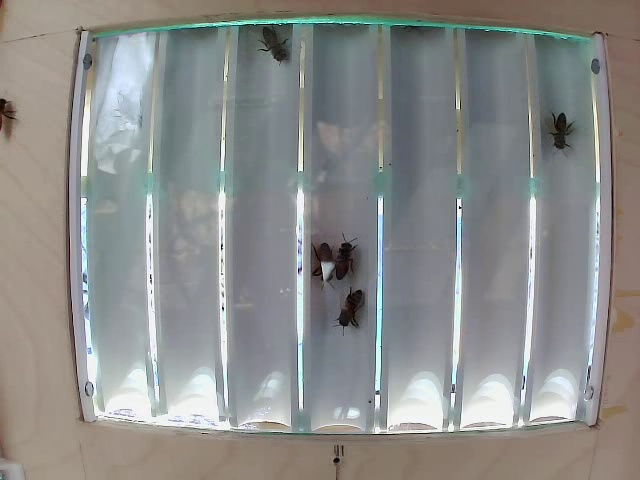bee: (337, 282, 376, 334), (330, 235, 369, 286), (265, 19, 298, 75), (541, 111, 581, 152), (302, 240, 338, 279)
